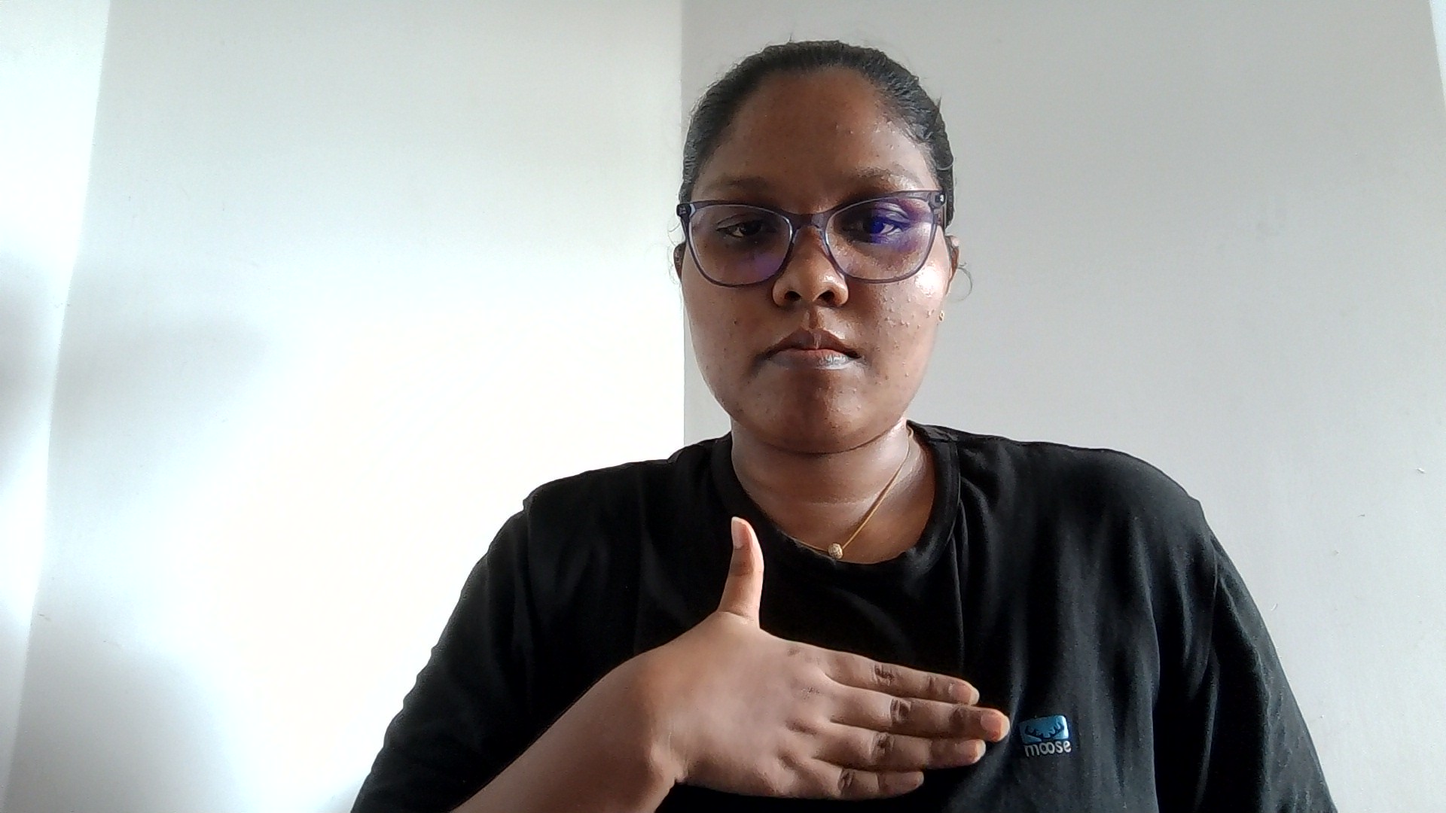Please: (621, 487, 1147, 798)
